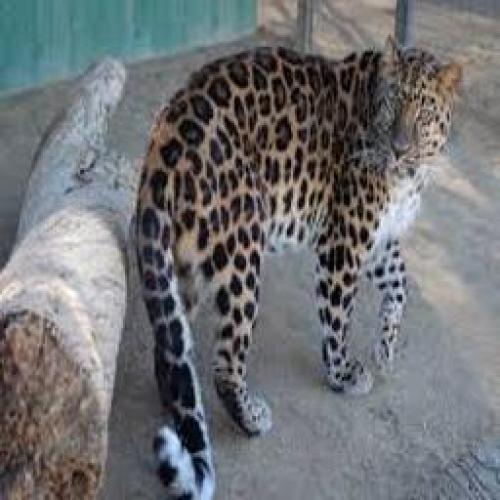amur_leopard-endangered: (134, 35, 465, 500)
